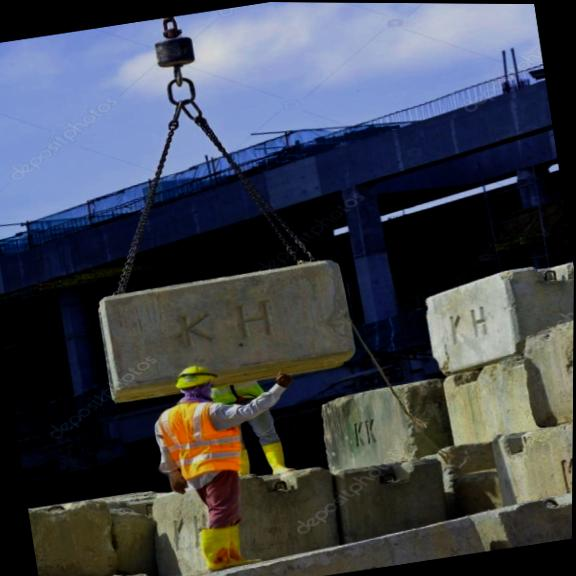safety_vest: (152, 386, 255, 484)
